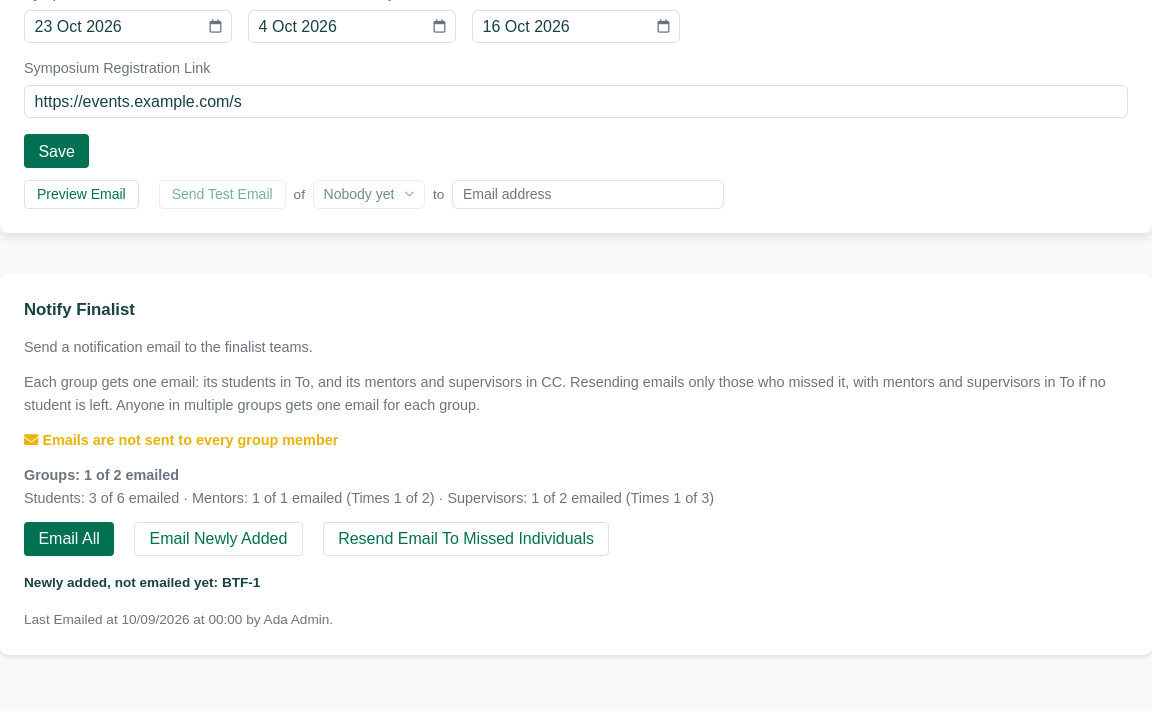
Scenario: sending › a refused send is reported and the dialog closes
The width and height of the screenshot is (1152, 711).
(page scrolled)
Click the button "Email All".
click(69, 539)  # box [24,522,114,556]
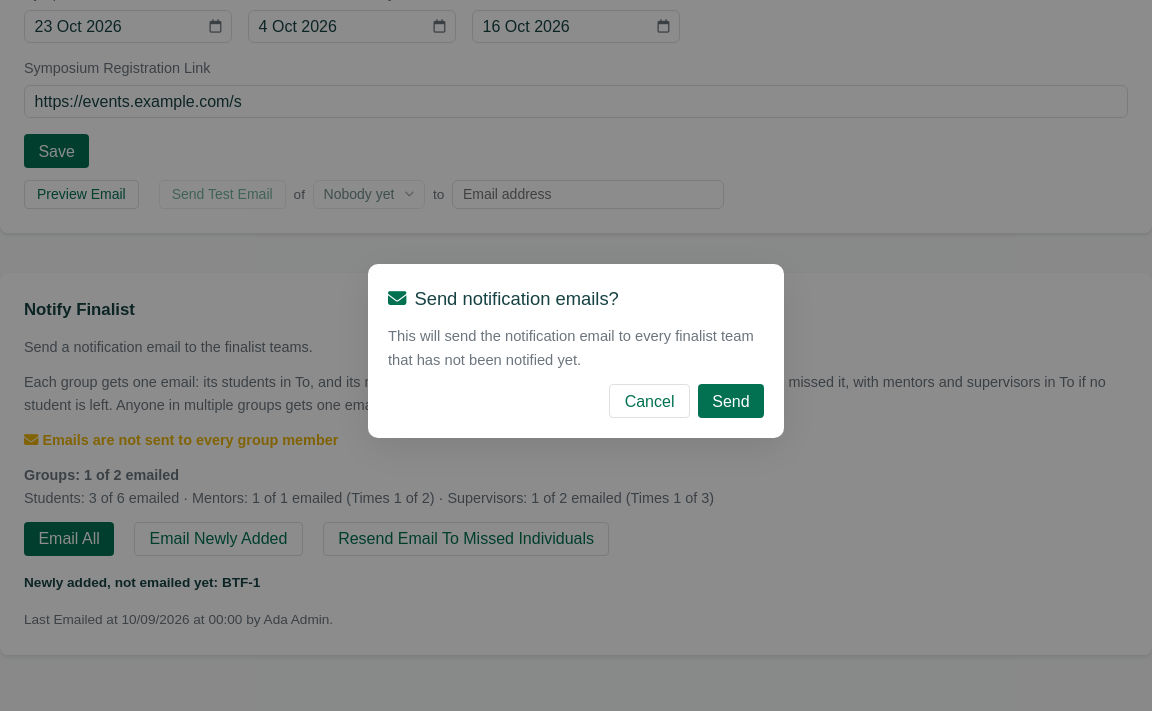
Click the button "Send".
click(731, 401)  # box [698,384,764,418]
(page scrolled)
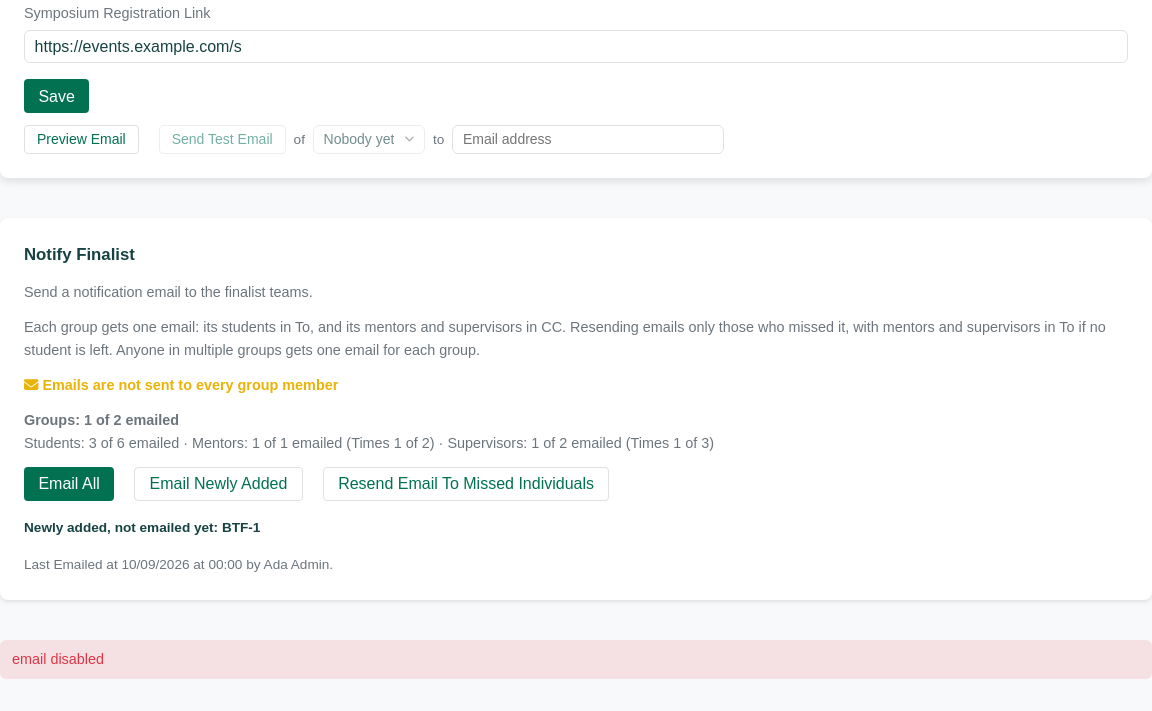
Expected: the text with class "notify-finalists__banner--error" reads "email disabled", [12,651,104,667]
